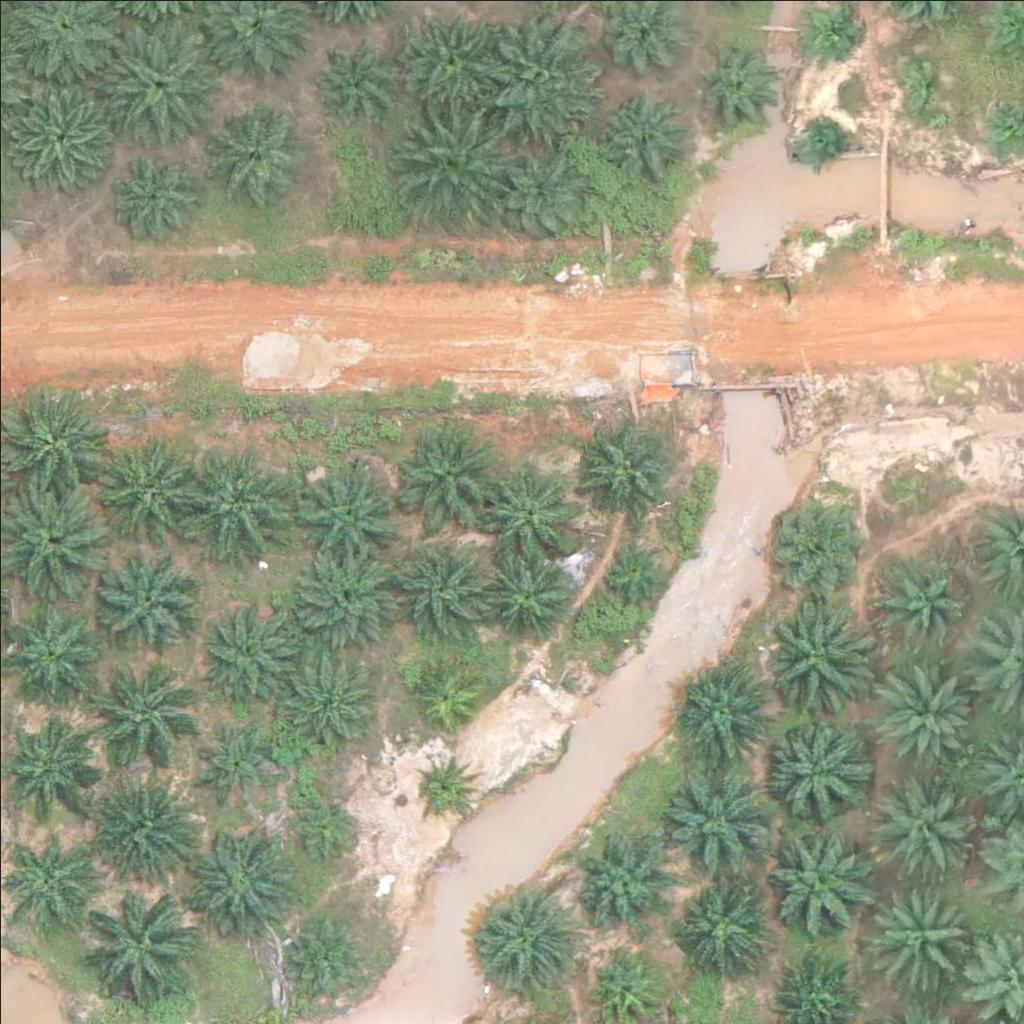Kelapa_Sawit: (8, 77, 121, 190), (81, 893, 194, 1006), (187, 820, 300, 933), (289, 542, 402, 655), (292, 454, 405, 567), (390, 415, 503, 528), (661, 769, 774, 882), (760, 825, 873, 938), (756, 714, 869, 827), (83, 661, 195, 775), (185, 444, 297, 558), (97, 28, 209, 141), (395, 99, 507, 212), (485, 20, 597, 133), (95, 426, 207, 539), (92, 765, 204, 878), (758, 602, 870, 715), (103, 146, 203, 247), (401, 13, 501, 114), (495, 146, 595, 247), (2, 711, 102, 812), (100, 549, 200, 650), (200, 598, 300, 699), (392, 532, 492, 633), (477, 541, 577, 642), (675, 660, 775, 761), (575, 415, 675, 516), (767, 487, 867, 588), (870, 880, 970, 981), (875, 768, 975, 869), (879, 660, 979, 761), (204, 97, 304, 197), (2, 608, 102, 708), (475, 884, 575, 984), (277, 651, 377, 751), (482, 462, 582, 562), (569, 831, 669, 931), (189, 717, 277, 805), (284, 909, 372, 997), (676, 876, 764, 964), (602, 87, 689, 176), (308, 35, 395, 123), (692, 41, 779, 129), (3, 828, 90, 916), (874, 555, 961, 643), (285, 791, 360, 866), (409, 653, 484, 728), (594, 529, 669, 604), (412, 752, 475, 815), (807, 9, 857, 60), (800, 120, 850, 170), (897, 57, 947, 107)
